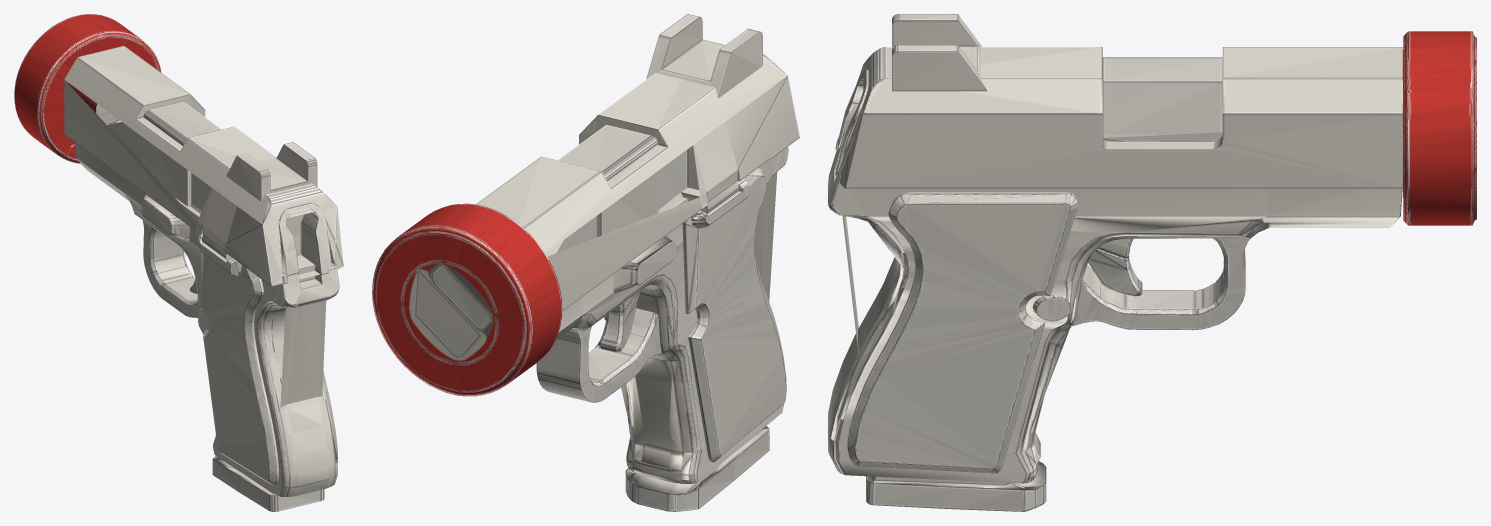
Rendered from pistolet.glb.
3 renders of one model, left to right at view 1: azimuth 30°, elevation 25°; view 2: azimuth 150°, elevation 25°; view 3: azimuth 270°, elevation 25°, orthographic. The views are drawn at different scales.
Parts seen in each view (by area): view 1: Slide, Body, Mag; view 2: Body, Slide, Mag; view 3: Slide, Body, Mag.
Part boxes in pixels (bbox=[...]): Slide: bbox=[64, 46, 343, 306]; Body: bbox=[14, 14, 337, 496]; Mag: bbox=[212, 456, 324, 511]; Body: bbox=[372, 172, 786, 483]; Slide: bbox=[476, 14, 799, 332]; Mag: bbox=[625, 426, 769, 511]; Slide: bbox=[828, 14, 1402, 222]; Body: bbox=[828, 31, 1476, 484]; Mag: bbox=[866, 461, 1046, 511].
Bounding box in the file's own units: 0.0841 × 0.2183 × 0.2791.
Materials: 1 (1 with a texture image).
